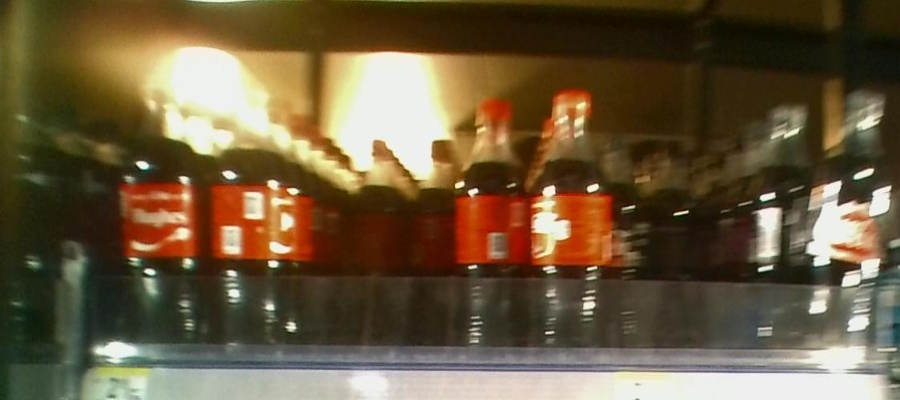bottle: (114, 74, 206, 352), (206, 79, 286, 354), (529, 87, 609, 353), (817, 84, 892, 352), (457, 96, 527, 354), (351, 109, 405, 353), (406, 129, 456, 349), (612, 136, 649, 351)
